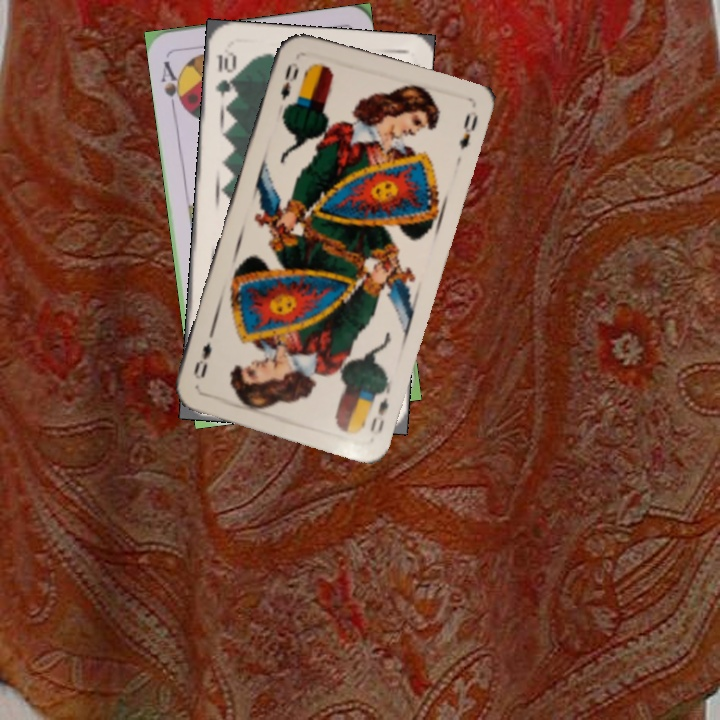EO: (276, 58, 302, 104), (366, 393, 392, 436)
G10: (211, 45, 239, 100)
SA: (157, 57, 188, 113)
